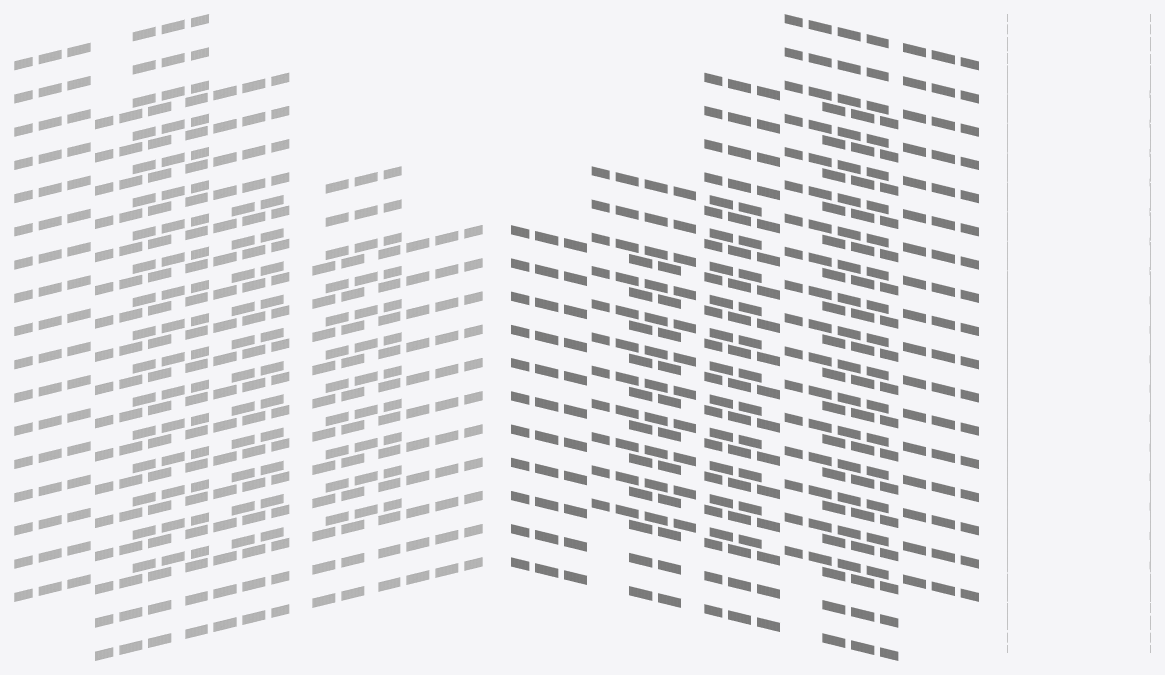
The model's file is MSH_Barandales_Planos.FBX.
3 renders of one model, left to right at view 1: azimuth 30°, elevation 25°; view 2: azimuth 150°, elevation 25°; view 3: azimuth 270°, elevation 25°, orthographic. The views are drawn at different scales.
Parts seen in each view (by area): view 1: MSH_Barandales_Planos; view 2: MSH_Barandales_Planos; view 3: MSH_Barandales_Planos.
Boxes of the visible parts, <box> form: MSH_Barandales_Planos: <box>14,14,482,660</box>; MSH_Barandales_Planos: <box>511,14,978,660</box>; MSH_Barandales_Planos: <box>1007,14,1150,652</box>.
Size of the model in its own units: 4027 by 5370 by 1453.
